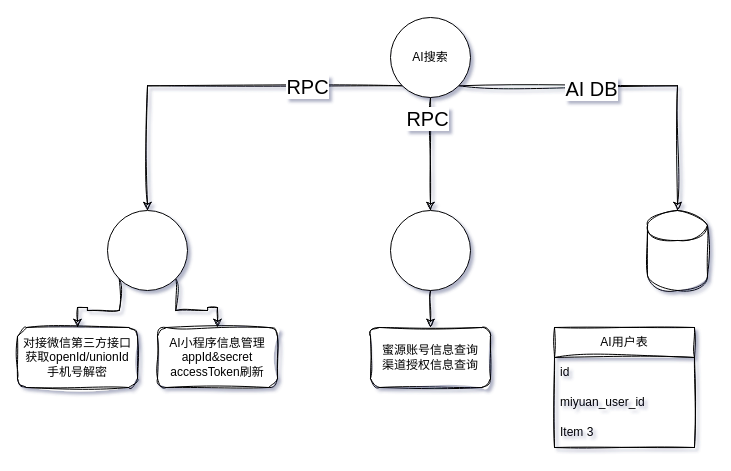
Image size: 731x471. Some labels were removed from this diagram. The centre of each missing label's shape, as x and y in pixels:
mysql AI搜索库: the point at 677,250
小程序项目: the point at 147,250
蜜源用户项目: the point at 430,250
